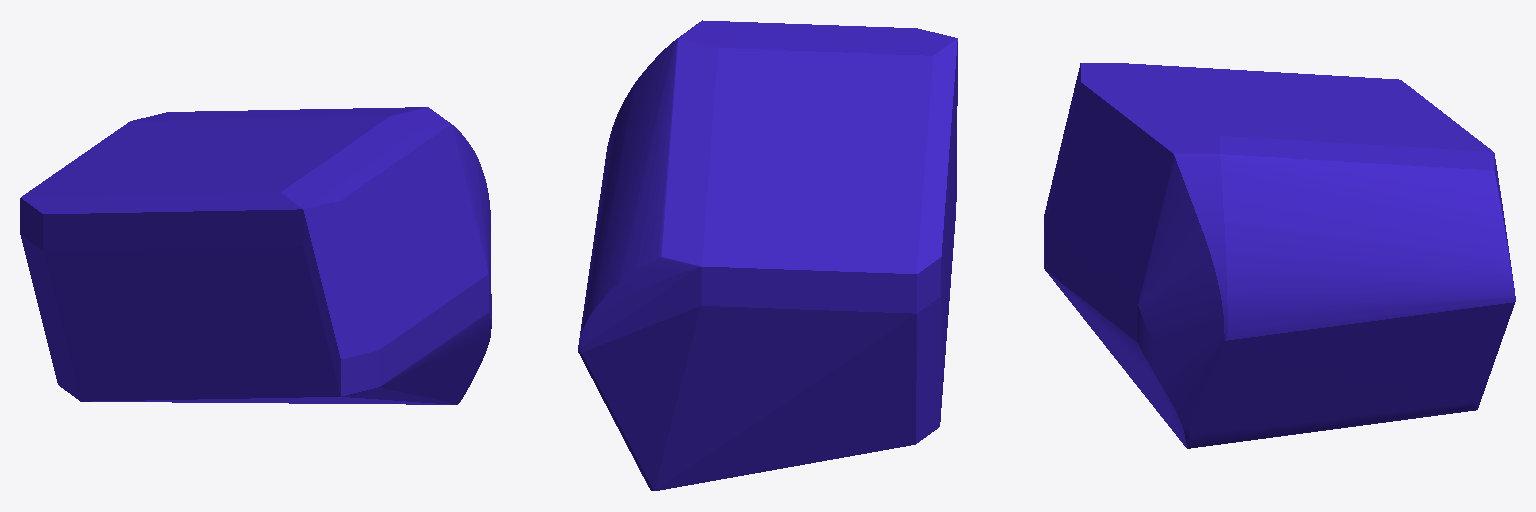
robot.urdf — zonopy_mesh_step6_link5.obj:
<robot name="zonopy_mesh_step6_link5.obj">
	<link name="link0">
		<visual>
			<origin xyz="0 0 0" rpy="0 0 0" />
			<geometry>
				<mesh filename="zonopy_mesh_step6_link5.obj" scale="1.0 1.0 1.0" />
			</geometry>
			<material name="texture">
				<color rgba="0.3 0.2 0.8 0.5" />
			</material>
		</visual>
		<inertial>
			<mass value="0" />
			<inertia ixx="0.0" ixy="0.0" ixz="0.0" iyy="0.0" iyz="0.0" izz="0.0" />
		</inertial>
	<collision><geometry><mesh filename="zonopy_mesh_step6_link5.obj" /></geometry></collision></link>
</robot>

--- Render facts (derived) ---
Views: 3 orthographic renders of the robot side by side, from view 1: azimuth 30°, elevation 25°; view 2: azimuth 150°, elevation 25°; view 3: azimuth 270°, elevation 25°.
Robot: zonopy_mesh_step6_link5.obj — 1 links, 0 joints (none); root link link0; default pose: every joint at zero.
Links seen in each view (by area): view 1: link0; view 2: link0; view 3: link0.
Boxes of the visible links, x1,y1,x2,y2 form: link0: (20,107,491,404); link0: (578,20,957,490); link0: (1044,63,1515,448).
Bounding box of the posed robot: 0.1904 × 0.2042 × 0.1467 m (x, y, z).
Meshes: 1 distinct files referenced, 1 mesh visuals loaded (1 OBJ).